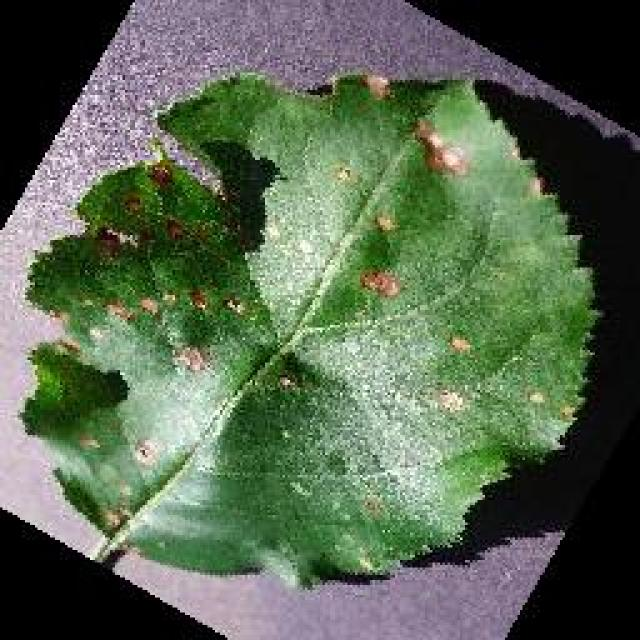Black_rot: (18, 68, 602, 588)
